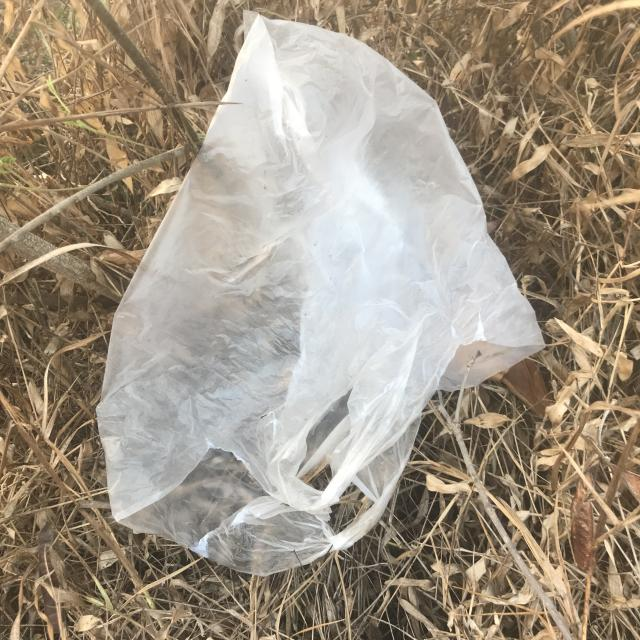Single-layer Plastic: (98, 16, 544, 575)
